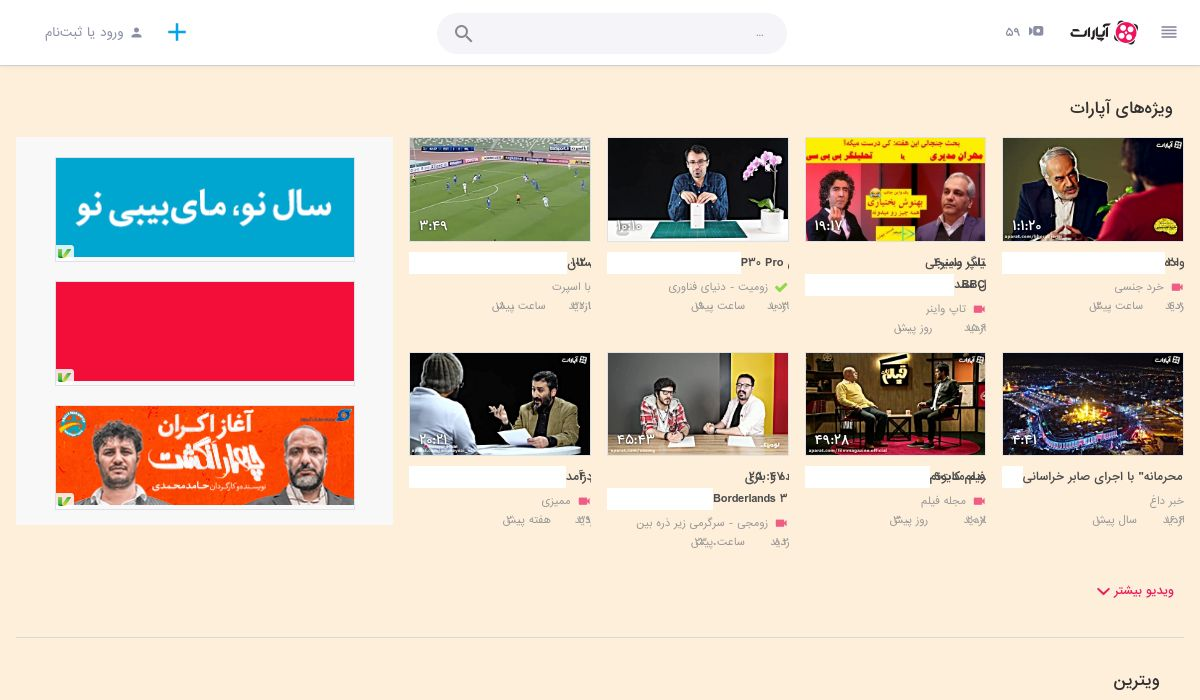menu: (1, 1, 1200, 65)
menu-button: (39, 19, 144, 46), (1068, 19, 1140, 47), (162, 19, 188, 46), (1159, 22, 1179, 41), (1003, 23, 1022, 40), (1026, 22, 1045, 39)
menu-search: (434, 13, 789, 54)
